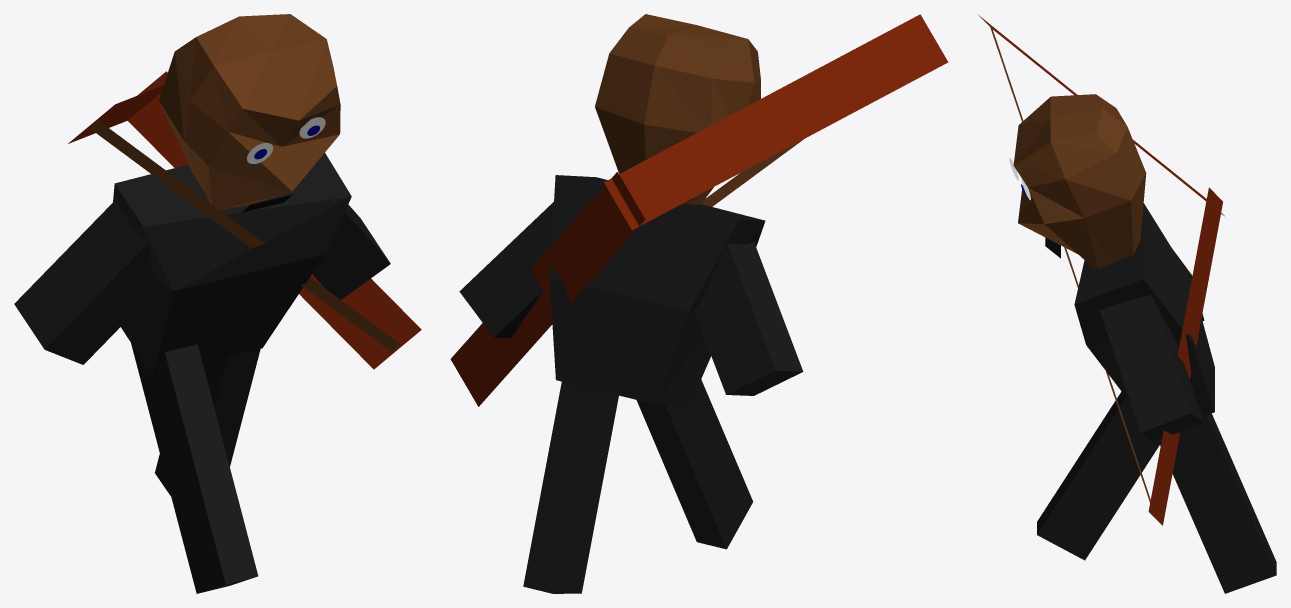
File: heavyarcher1d.obj
3 renders of one model, left to right at view 1: azimuth 30°, elevation 25°; view 2: azimuth 150°, elevation 25°; view 3: azimuth 270°, elevation 25°, orthographic. The views are drawn at different scales.
Visible parts, largest first — view 1: Cube.001, Cube, Cube.004, Cube.003, Plane.001_Plane.002, Plane.003_Plane.004, Cube.002, Cube.005, Plane.002_Plane.003; view 2: Cube.001, Plane.002_Plane.003, Cube, Cube.005, Plane.001_Plane.002, Cube.003, Cube.004, Cube.002, Plane.003_Plane.004; view 3: Cube, Cube.001, Cube.005, Cube.004, Cube.002, Plane.001_Plane.002, Plane.003_Plane.004, Plane.002_Plane.003.
Part boxes in pixels (<box>): Cube.001: <box>113,153,351,374</box>; Cube: <box>159,14,340,209</box>; Cube.004: <box>131,343,258,593</box>; Cube.003: <box>14,201,153,364</box>; Plane.001_Plane.002: <box>128,71,421,369</box>; Plane.003_Plane.004: <box>88,120,400,351</box>; Cube.002: <box>312,204,390,299</box>; Cube.005: <box>155,349,260,495</box>; Plane.002_Plane.003: <box>68,85,163,143</box>; Cube.001: <box>549,175,765,405</box>; Plane.002_Plane.003: <box>604,14,948,230</box>; Cube: <box>595,14,760,204</box>; Cube.005: <box>523,381,618,593</box>; Plane.001_Plane.002: <box>450,172,645,406</box>; Cube.003: <box>695,242,803,395</box>; Cube.004: <box>636,379,753,549</box>; Cube.002: <box>459,202,553,338</box>; Plane.003_Plane.004: <box>701,38,928,206</box>; Cube: <box>1013,94,1146,269</box>; Cube.001: <box>1074,203,1214,416</box>; Cube.005: <box>1158,413,1276,593</box>; Cube.004: <box>1037,391,1159,560</box>; Cube.002: <box>1099,295,1203,441</box>; Plane.001_Plane.002: <box>1148,187,1222,525</box>; Plane.003_Plane.004: <box>989,25,1150,502</box>; Plane.002_Plane.003: <box>977,14,1224,216</box>.
Bounding box in the file's own units: 4.75 × 5.83 × 3.31.
